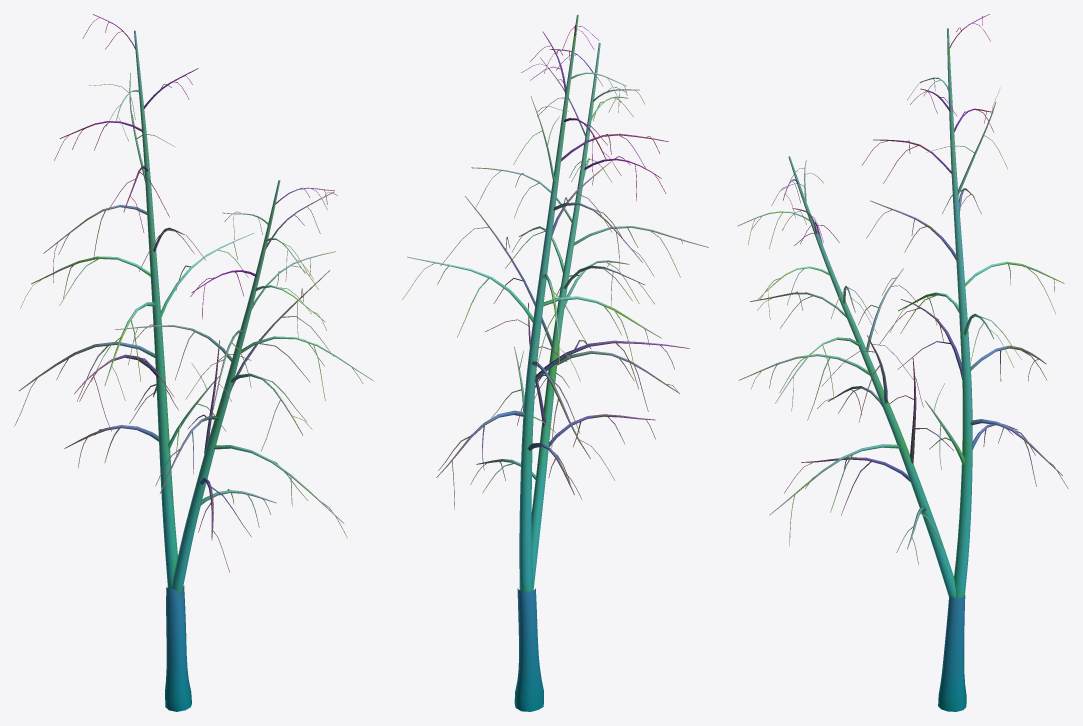
Rendered from birch-grove-c.glb.
The picture shows the model from 3 angles, left to right: view 1: azimuth 30°, elevation 25°; view 2: azimuth 150°, elevation 25°; view 3: azimuth 270°, elevation 25°; orthographic projection. The views are drawn at different scales.
Visible parts, largest first — view 1: bark; view 2: bark; view 3: bark.
Part boxes in pixels (bbox=[...]): bark: bbox=[14, 14, 373, 711]; bark: bbox=[402, 14, 708, 711]; bark: bbox=[738, 14, 1068, 711].
Size of the model in its own units: 5.71 by 15.86 by 7.18.
